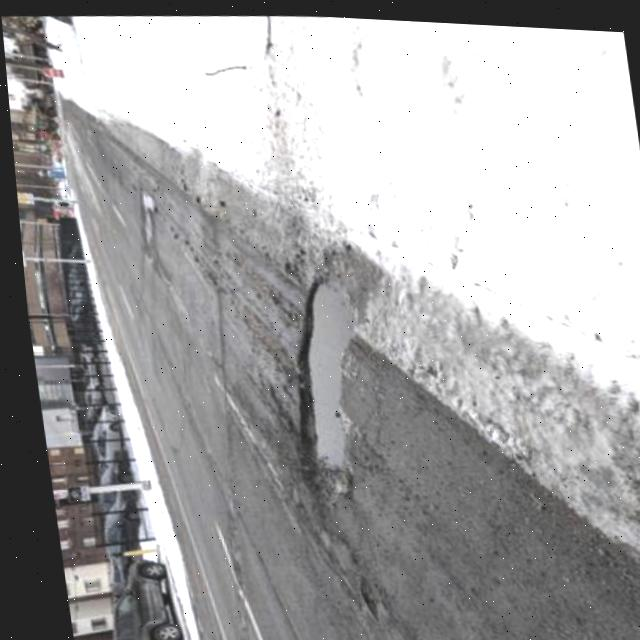Pothole: (249, 264, 383, 500), (121, 185, 170, 249), (341, 574, 376, 621)
